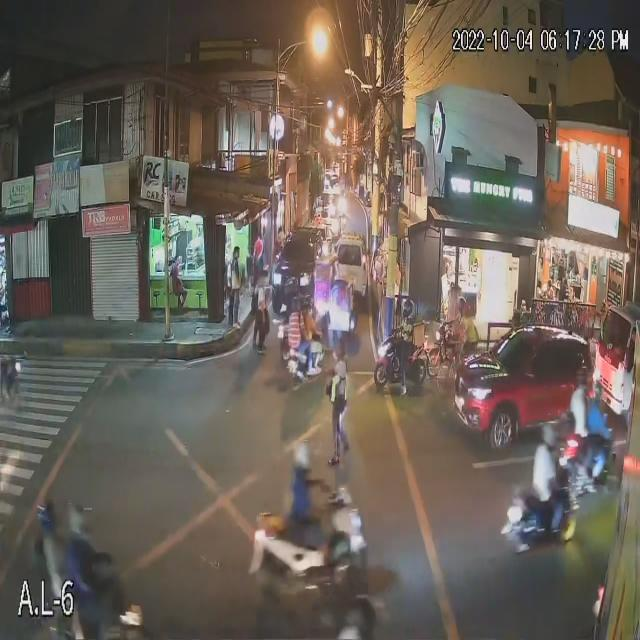helmet: (38, 507, 58, 530), (68, 508, 87, 532), (397, 299, 418, 319), (540, 424, 558, 446), (290, 443, 307, 465), (289, 298, 300, 310), (454, 298, 468, 307)
motorcycle: (247, 516, 360, 597), (69, 550, 150, 640), (500, 492, 574, 555), (560, 428, 614, 501), (278, 333, 324, 387), (372, 343, 420, 394), (431, 328, 471, 365)
rider: (290, 471, 320, 536), (536, 449, 555, 510), (69, 539, 88, 593), (398, 323, 411, 394), (592, 406, 607, 462), (44, 541, 59, 595), (575, 394, 586, 444), (453, 312, 466, 353), (290, 315, 300, 345), (305, 316, 317, 340)
